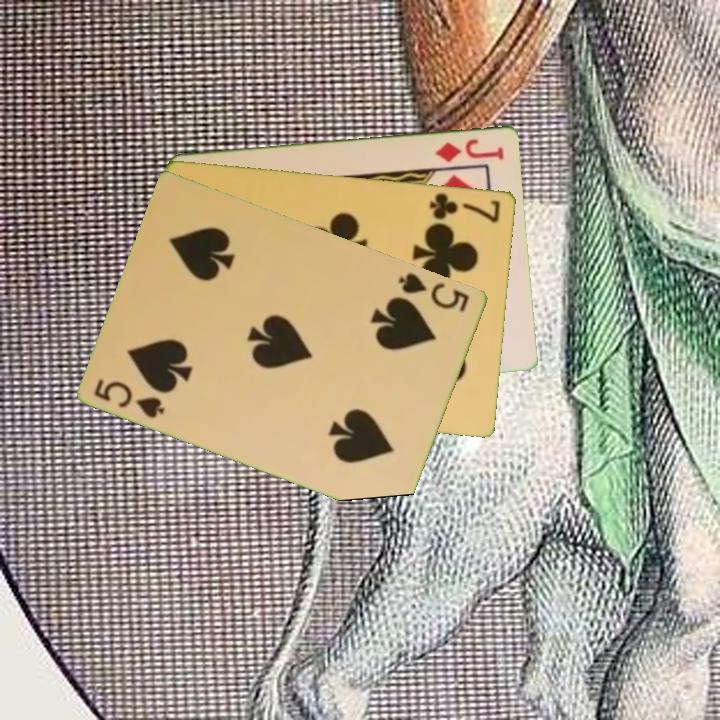5s: (395, 269, 473, 315), (90, 375, 168, 421)
7c: (426, 189, 504, 225)
Jd: (432, 134, 507, 165)
